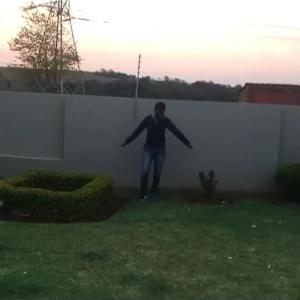land: (118, 95, 196, 204)
